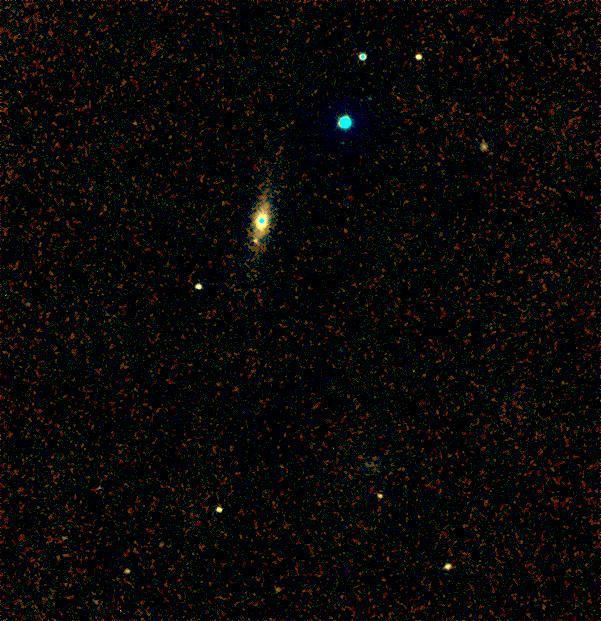star: (243, 226, 273, 256)
